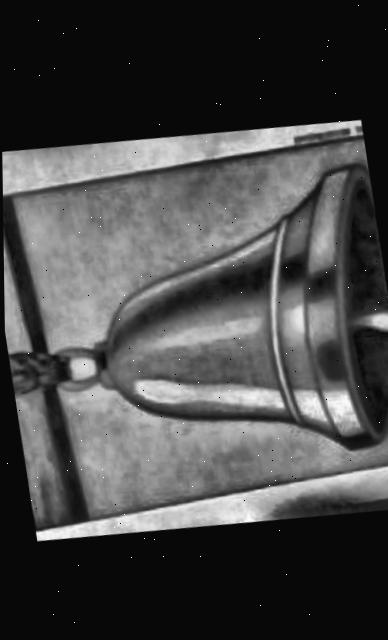La Campana: (2, 131, 388, 528)
